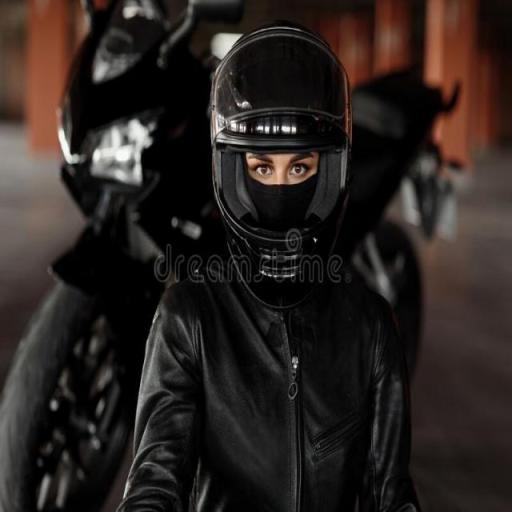Helmet: (212, 22, 351, 307)
Motor: (0, 0, 242, 511), (340, 72, 459, 372)
